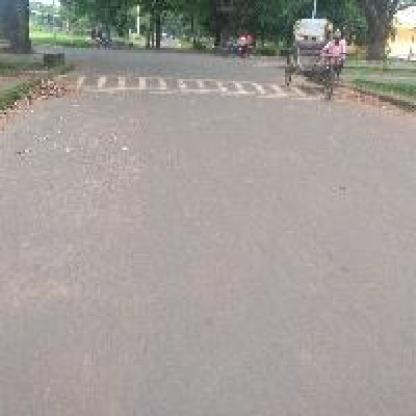Speed Bump: (48, 68, 283, 100)
